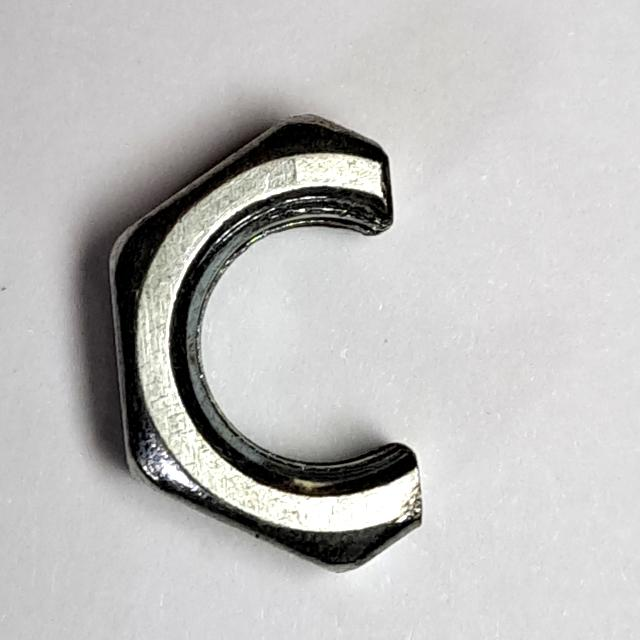Fracture: (102, 89, 449, 590)
